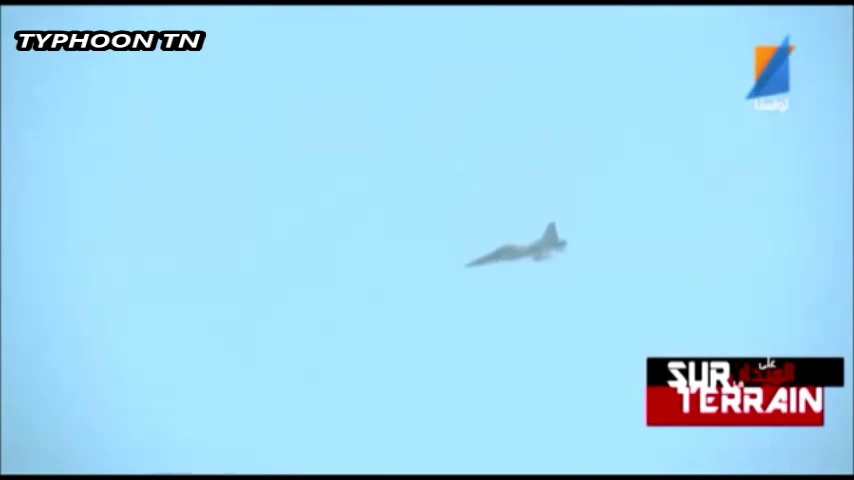Airplane: (463, 219, 568, 273)
